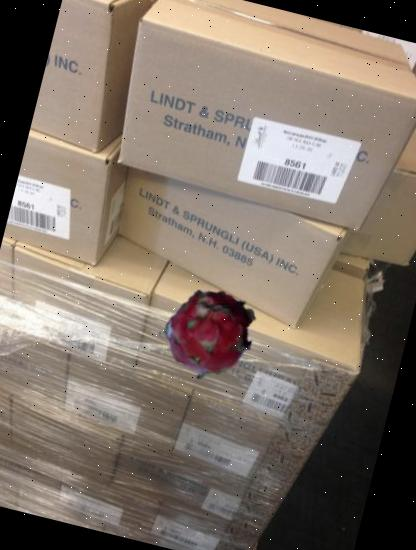Pitahaya: (150, 278, 264, 392)
